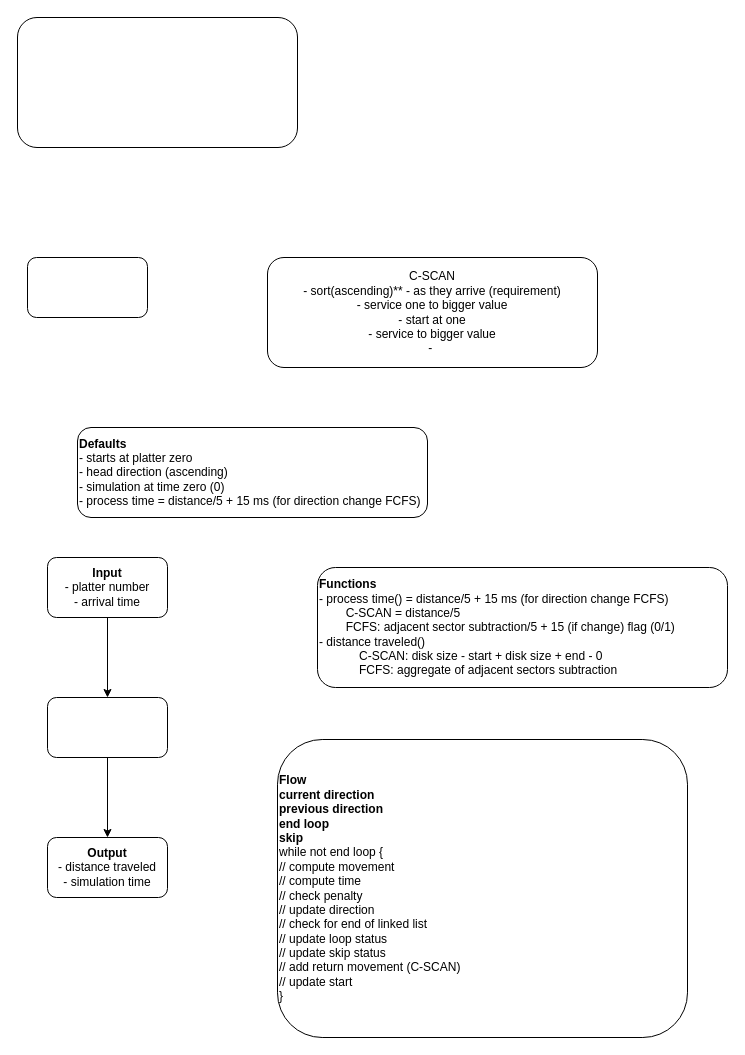
This 745x1055 diagram has some shape labels left out. Here are the shapes that lost their labels. From the top down, the centre of each, then its label:
At [157,82]: "Platters = 10000 0 - 9999 Algorithms = FCFS pr C-SCAN".
At [87,287]: "FCFS - service the requests as they come".
At [107,727]: "FCFS/C-SCAN".
